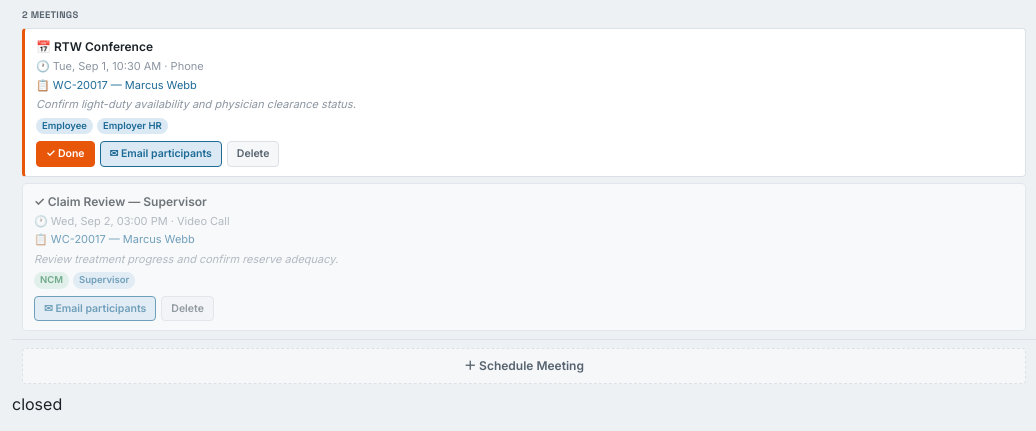
it: the email control is live, and opens the composer on that meeting
Click the button with test id "meeting-email". click: coordinates (161, 154)
box: [100,141,222,167]
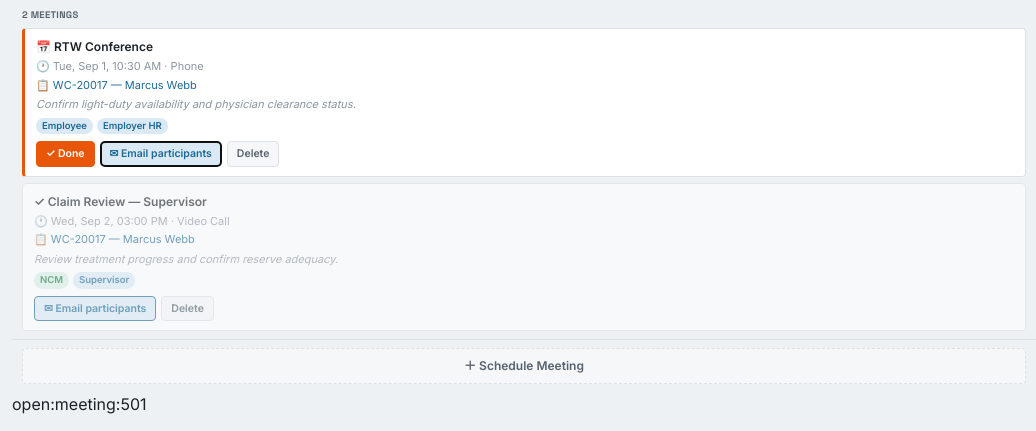
Expected: the text with test id "composer-state" reads "open:meeting:501", [12,394,146,414]
